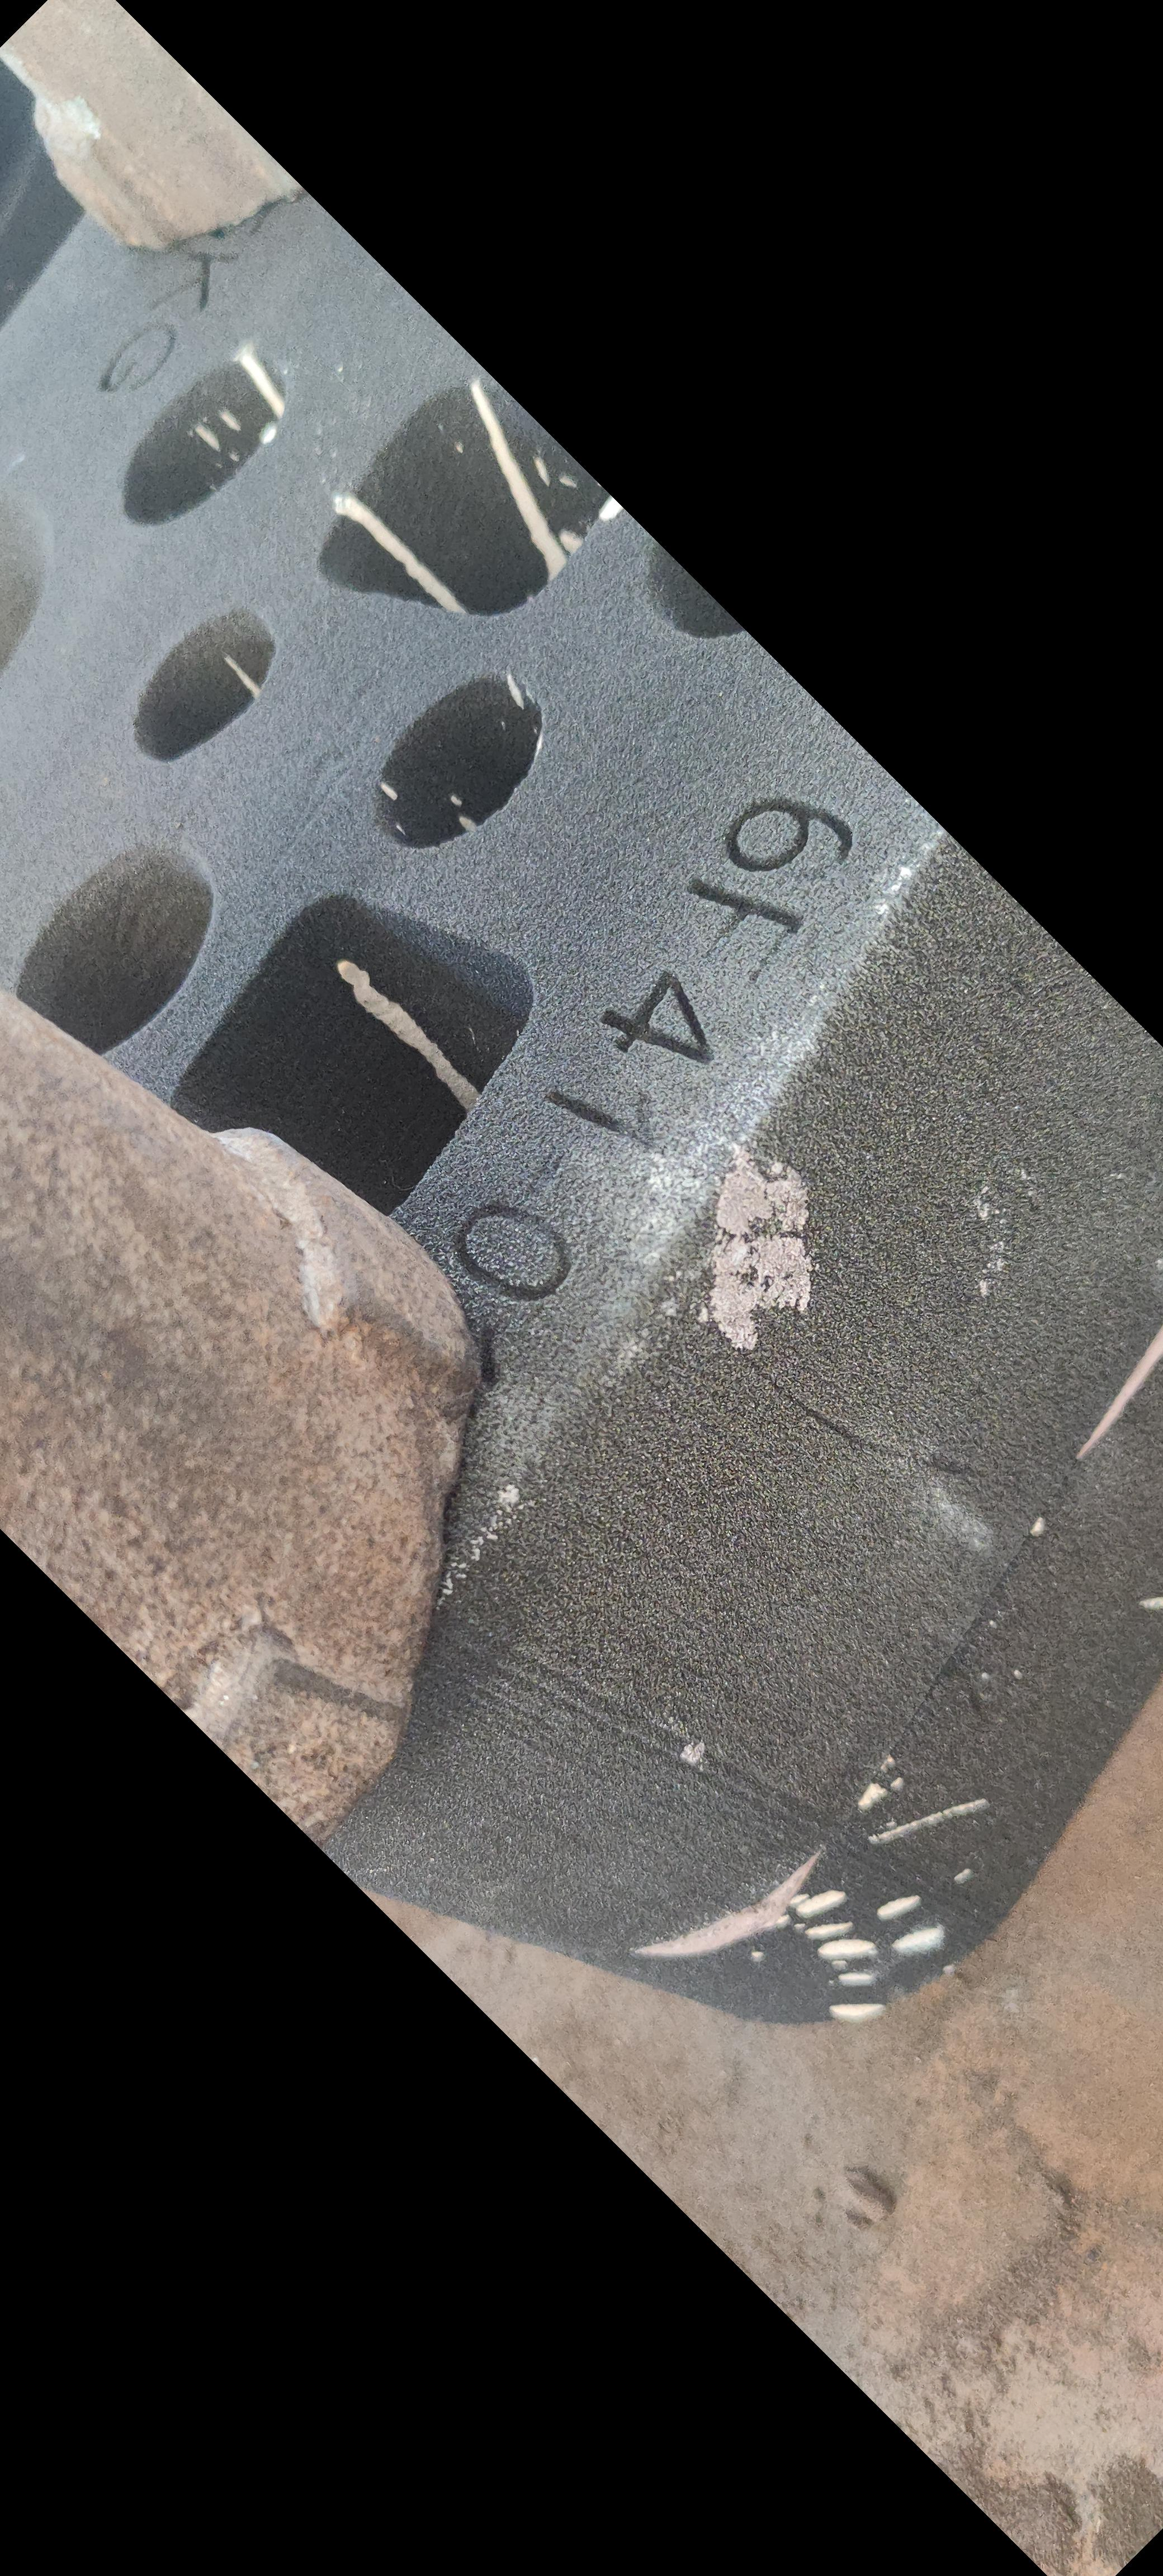pouring hole: (0, 485, 56, 665)
